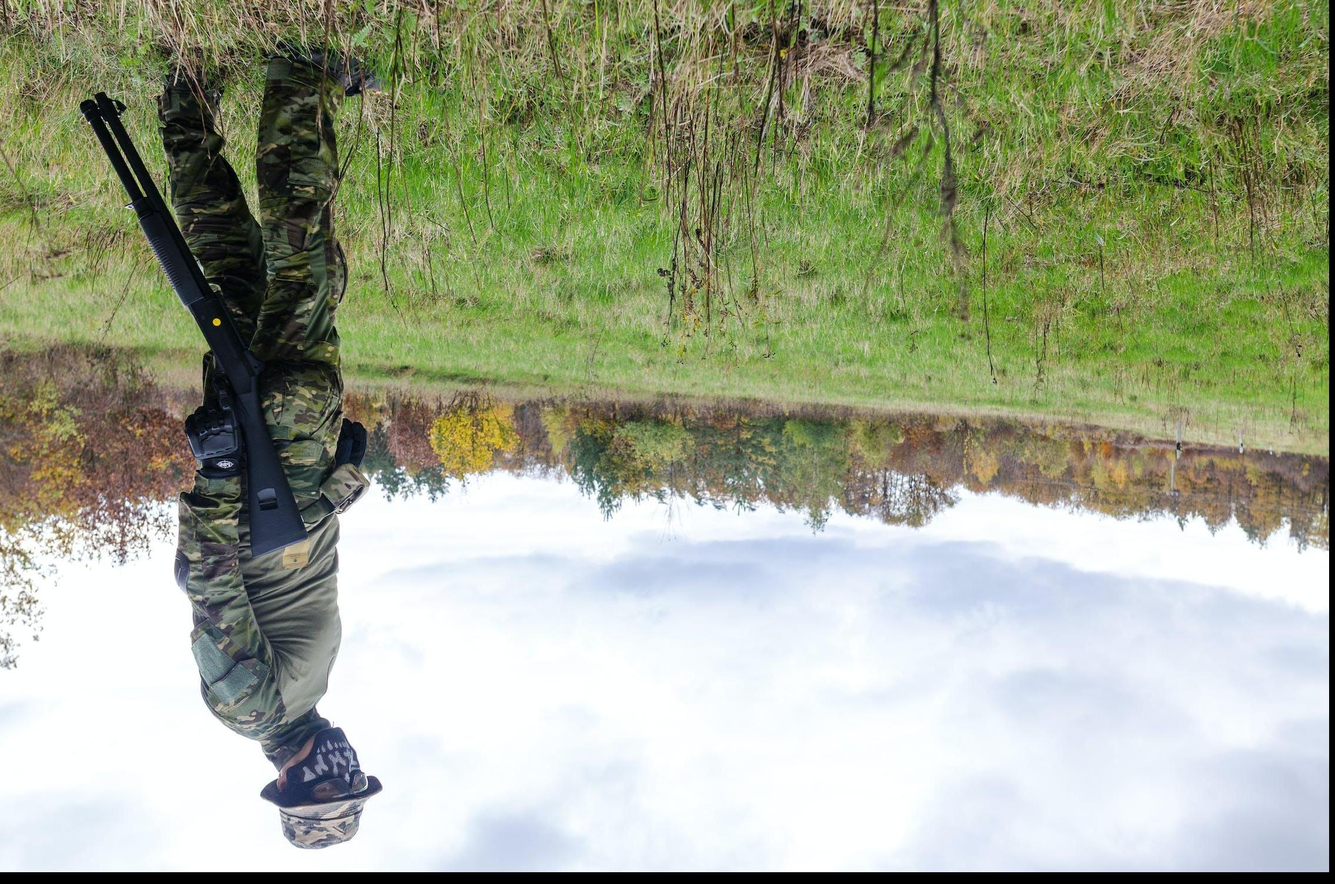larga: (77, 94, 309, 560)
